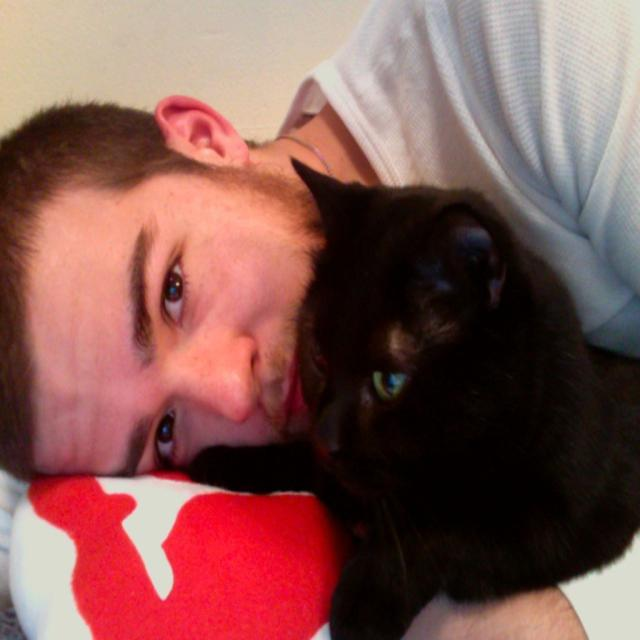Cat: (186, 154, 638, 638)
